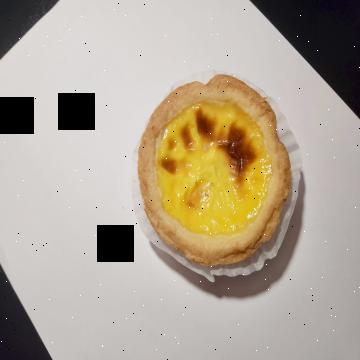EggTart: (136, 70, 290, 266)
